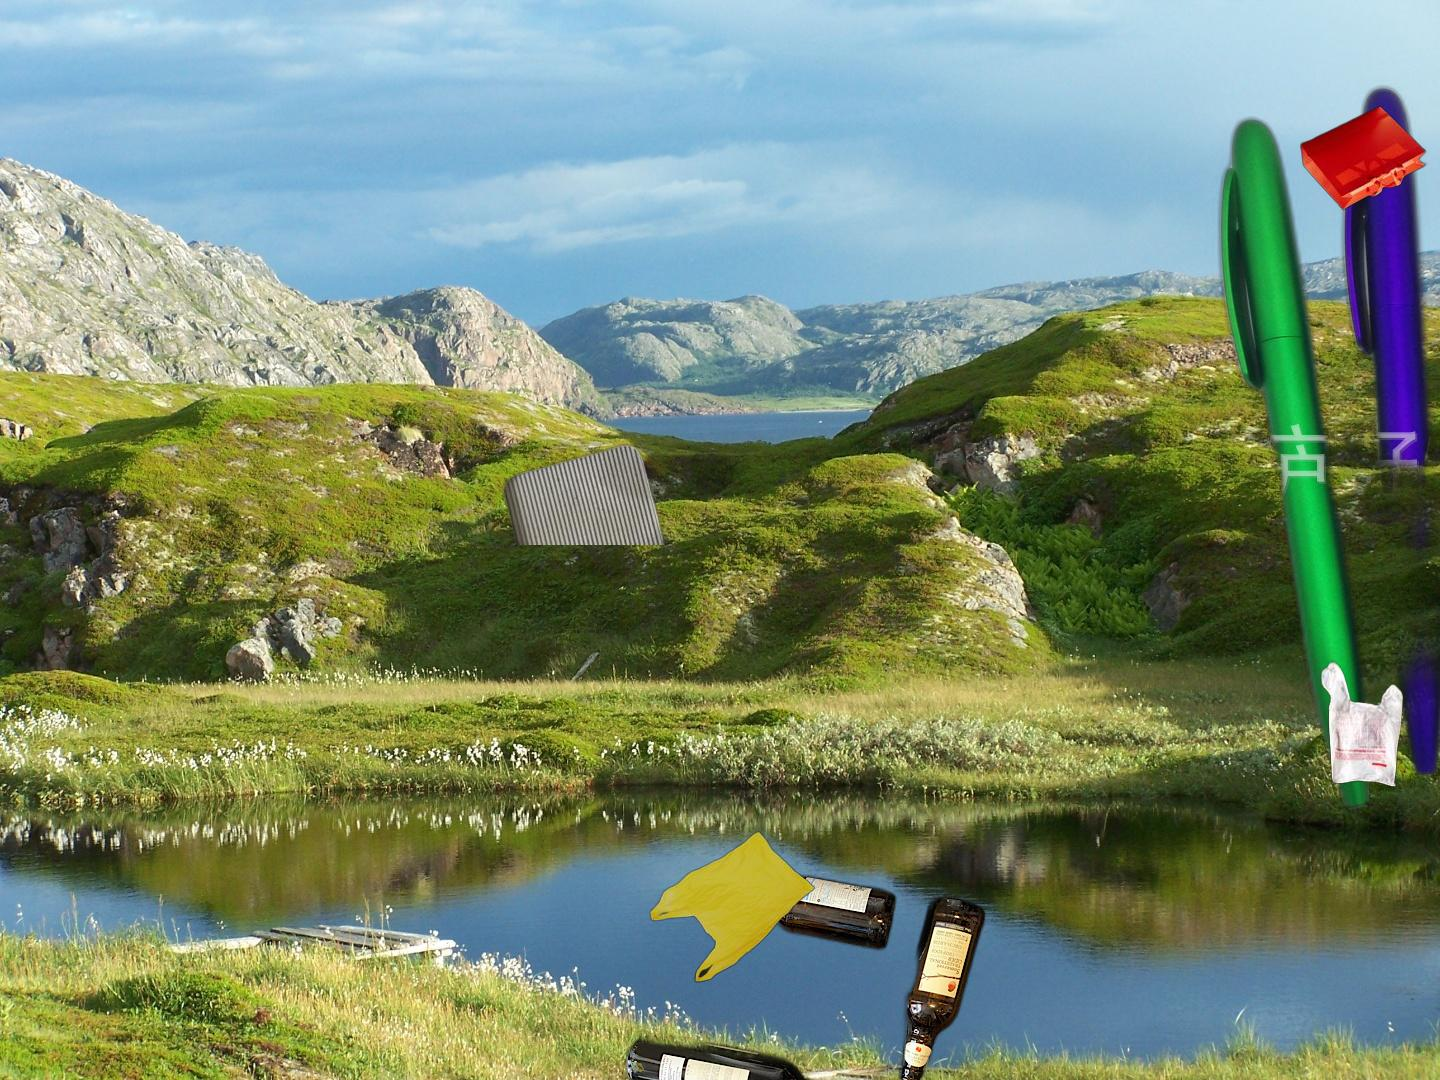glass: (621, 869, 993, 1080)
paper: (420, 161, 722, 545)
paper-bag: (1297, 106, 1429, 211)
penholder: (1210, 70, 1440, 952)
plastic-bag: (649, 829, 818, 985), (1308, 655, 1404, 790)
